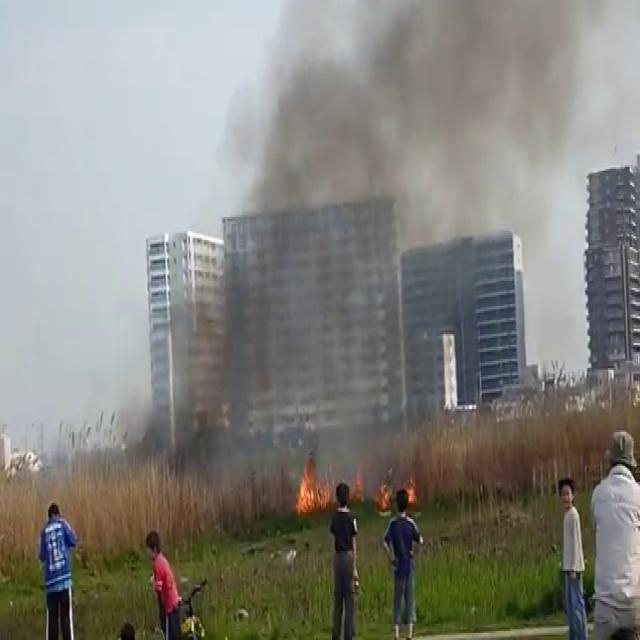Fire: (292, 455, 333, 523)
Smoke: (208, 0, 624, 455)
